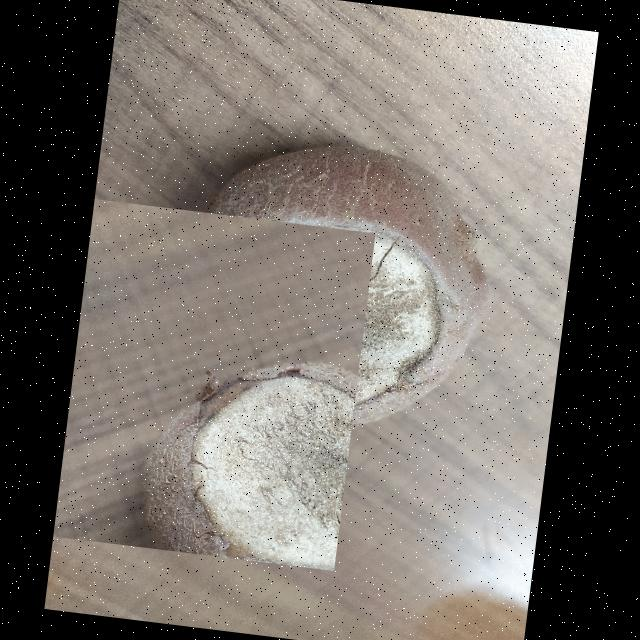Damaged potato: (25, 195, 374, 570)
